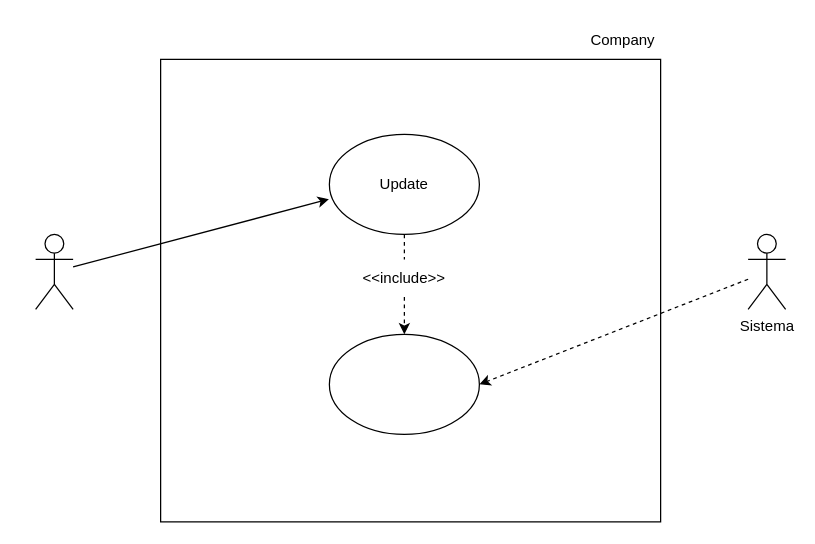
The diagram is 815 pixels wide and 544 high, and some of its shapes have lost their labels. Here are the shapes that lost their labels. From the top down, the box of each, then its label:
(34, 233, 73, 309): Employee
(328, 333, 479, 434): Validate
